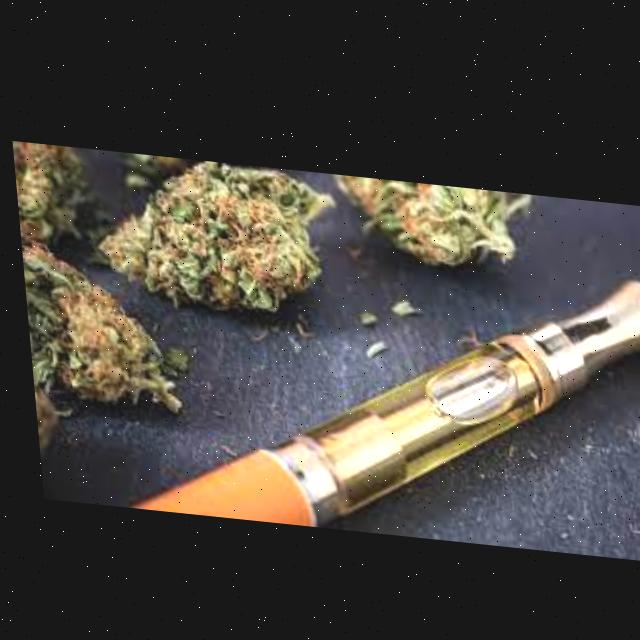vape: (103, 223, 640, 550)
